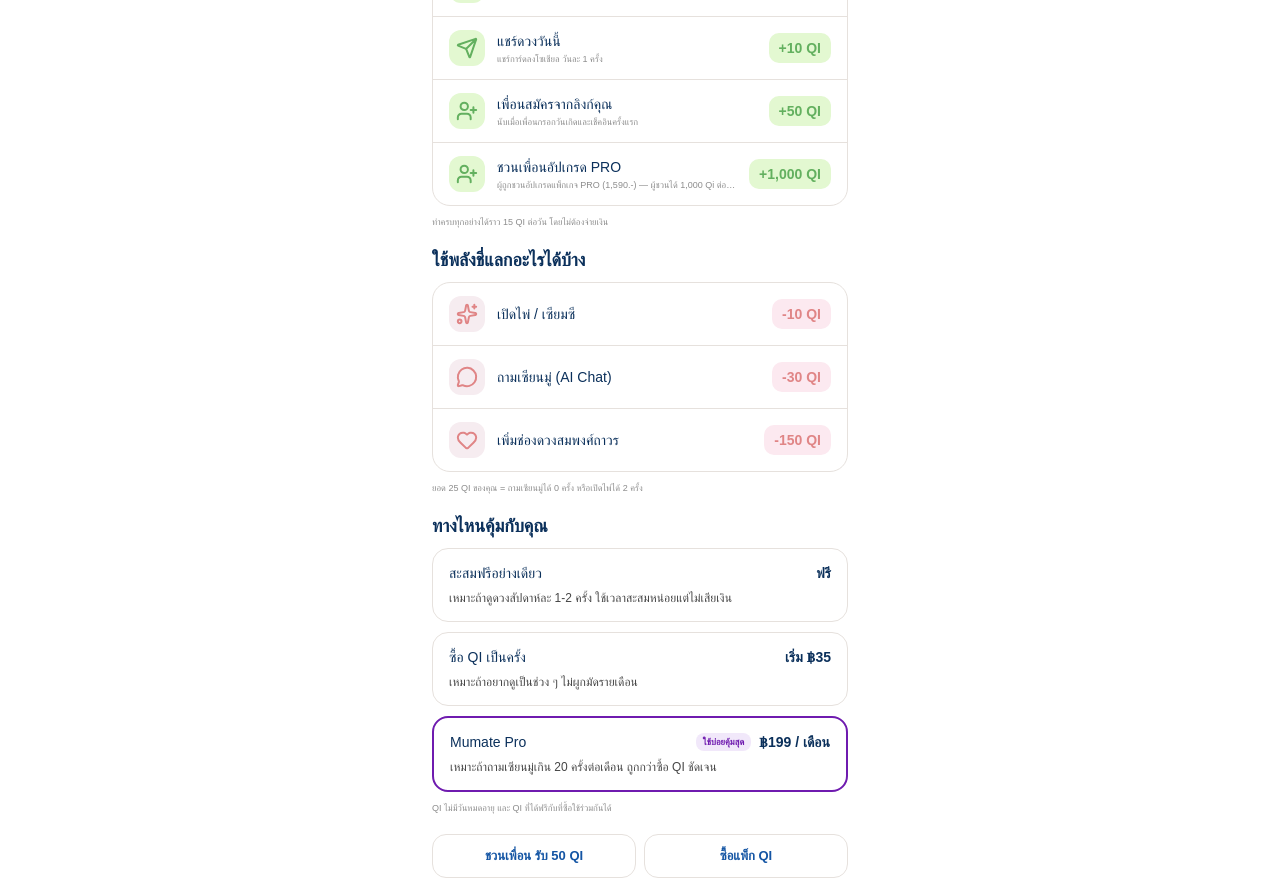
Scenario: ชีตใช้ชี่ / ชี่ไม่พอ (ก้อน 1.5) › Q3 ชี่ไม่พอ (25 < 150) → เปิดชีตชี่ไม่พอบอกยอดขา ❌ ไม่ยิง /api/qi-spend
The image size is (1280, 889).
(page scrolled)
Click the button with test id "qi-redeem-matching_slot" at (467, 440), box [433,408,847,471]
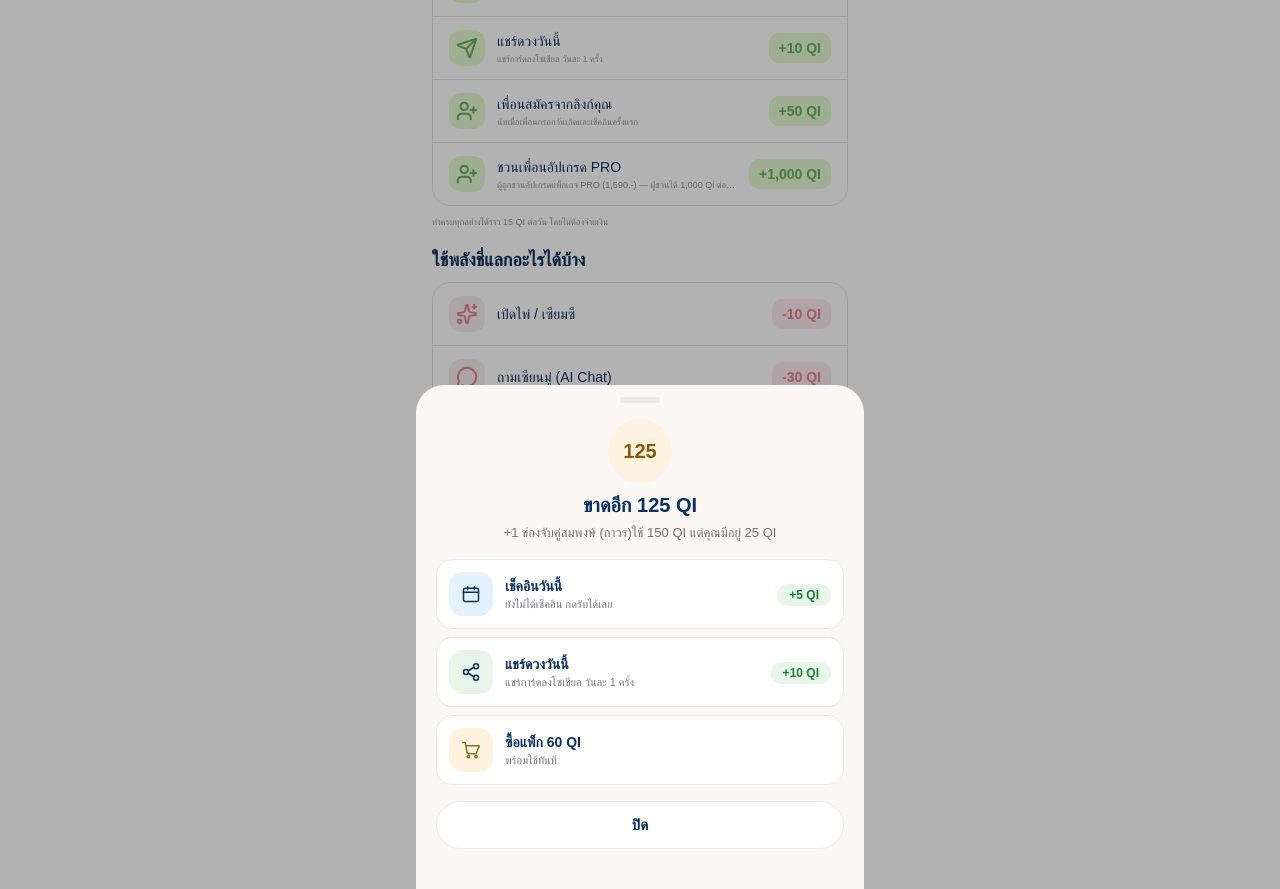
Check: the heading with test id "qi-insufficient-title" reads "ขาดอีก 125 QI", box [583,491,697,519]
